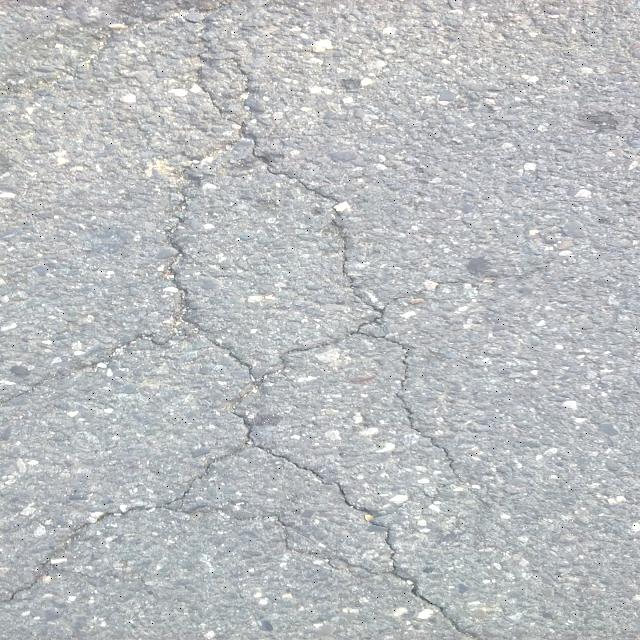Crack: (0, 7, 267, 605), (250, 137, 470, 485), (254, 447, 484, 640)
